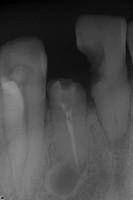Furcation Involvement: (48, 165, 84, 196), (104, 131, 130, 154)
